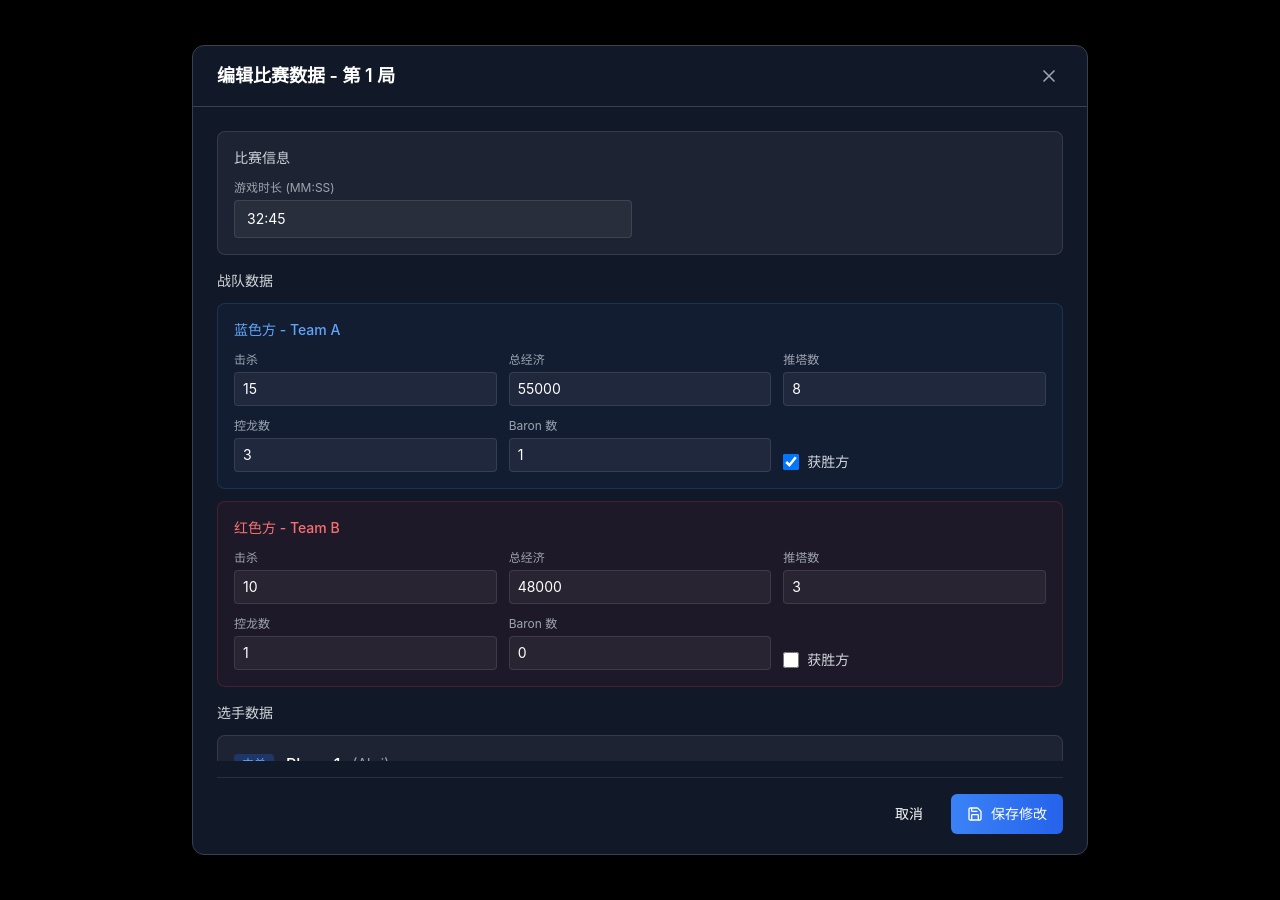
Test case: MatchDataEditDialog › shows loading state on save button when saving
The width and height of the screenshot is (1280, 900).
Click the button "保存修改".
click(1007, 814)  # box [951,794,1063,834]
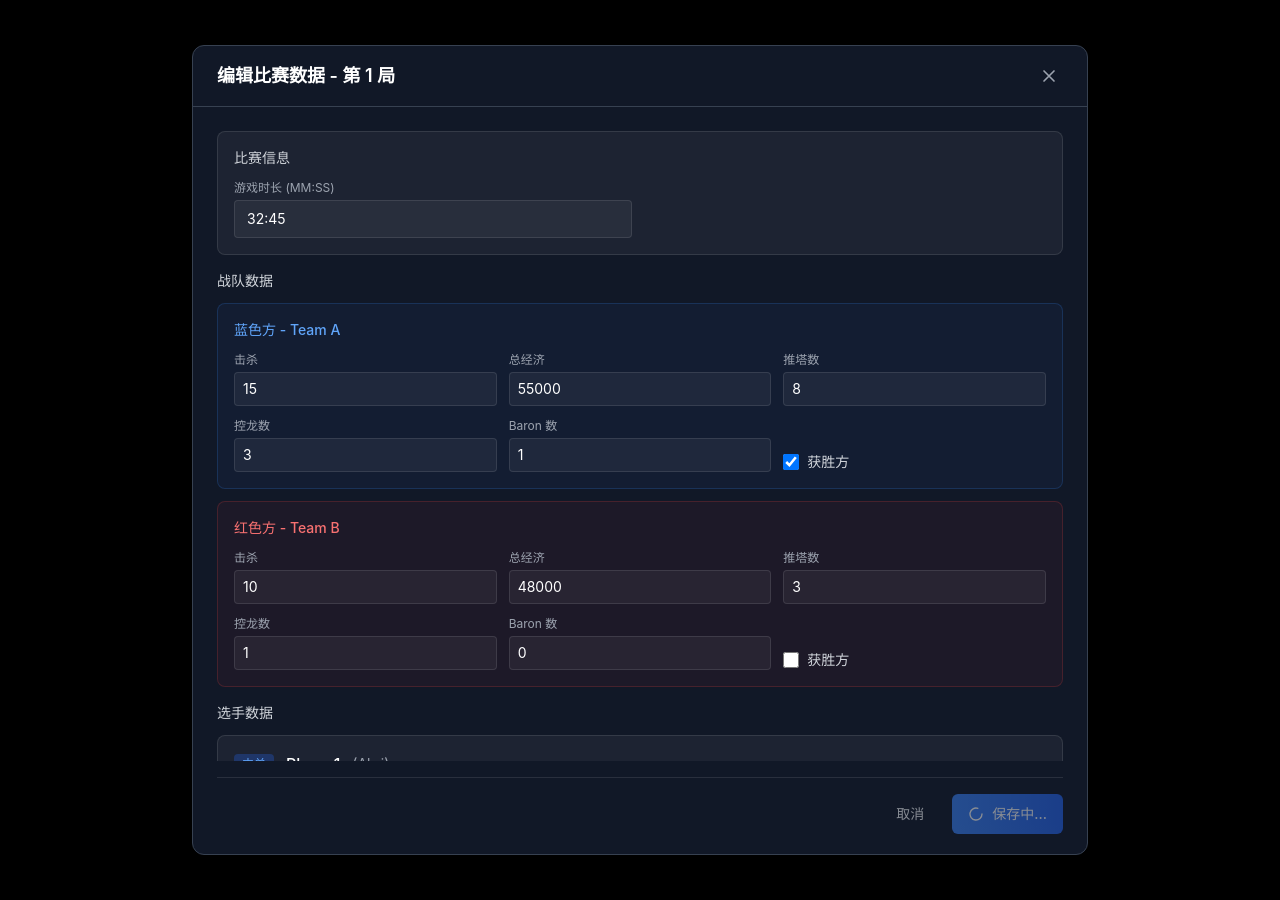
Expected: the button "保存中..." is shown, [952,794,1063,834]
